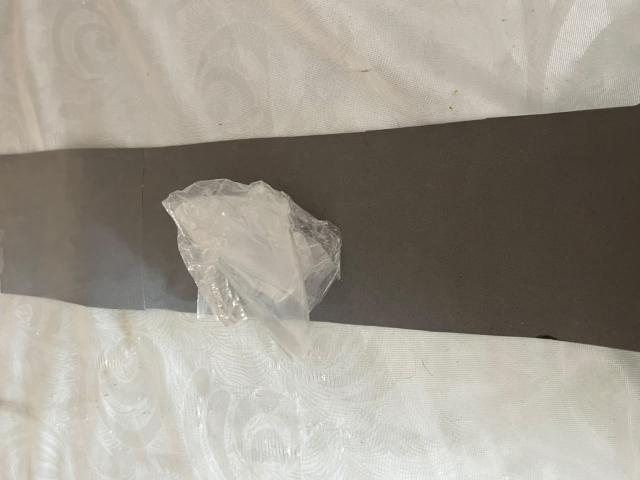LDPE: (146, 155, 371, 385)
